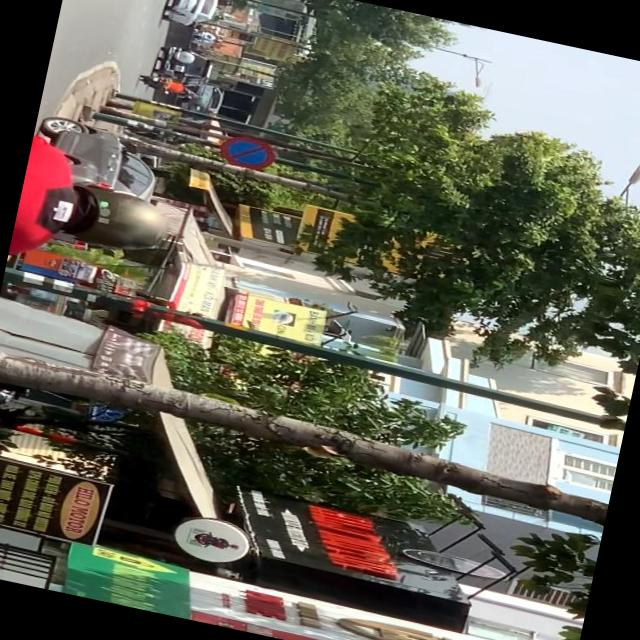P-131a: (216, 130, 278, 172)
